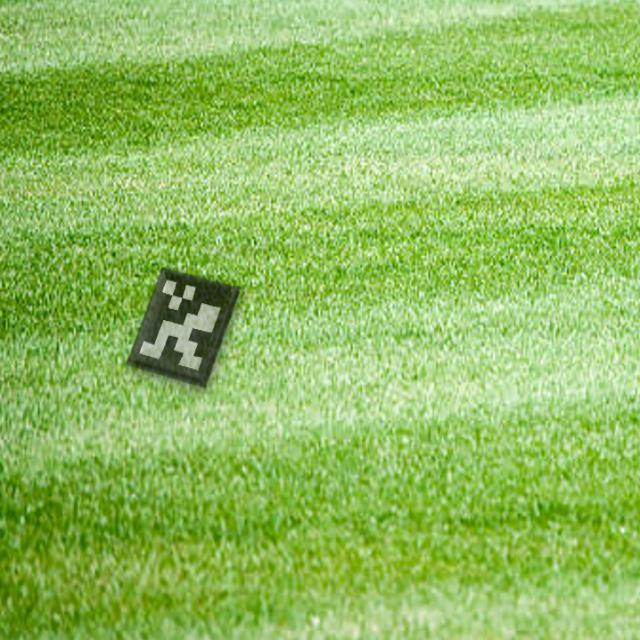marker: (122, 256, 246, 395)
